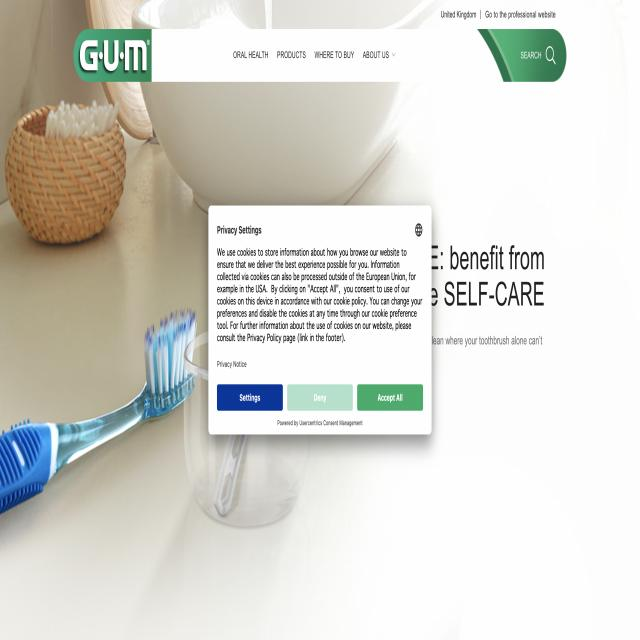Logo: (77, 33, 151, 80)
Navigation: (222, 34, 470, 73)
